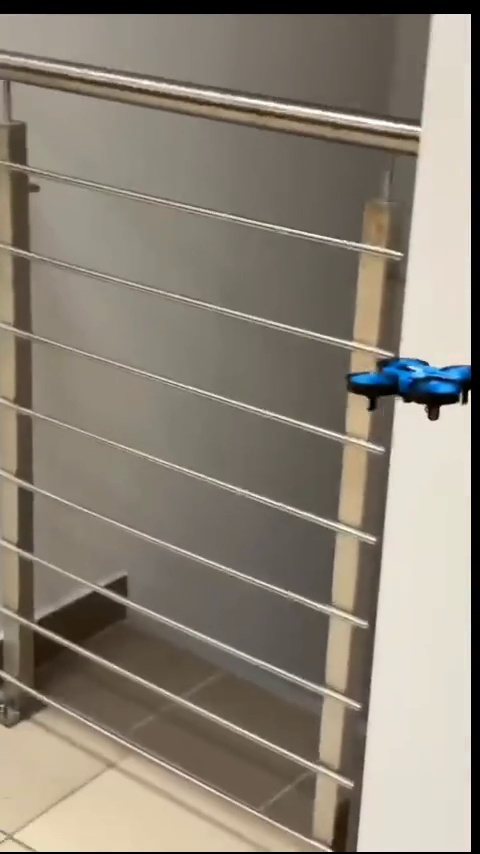drone: (338, 355, 478, 420)
